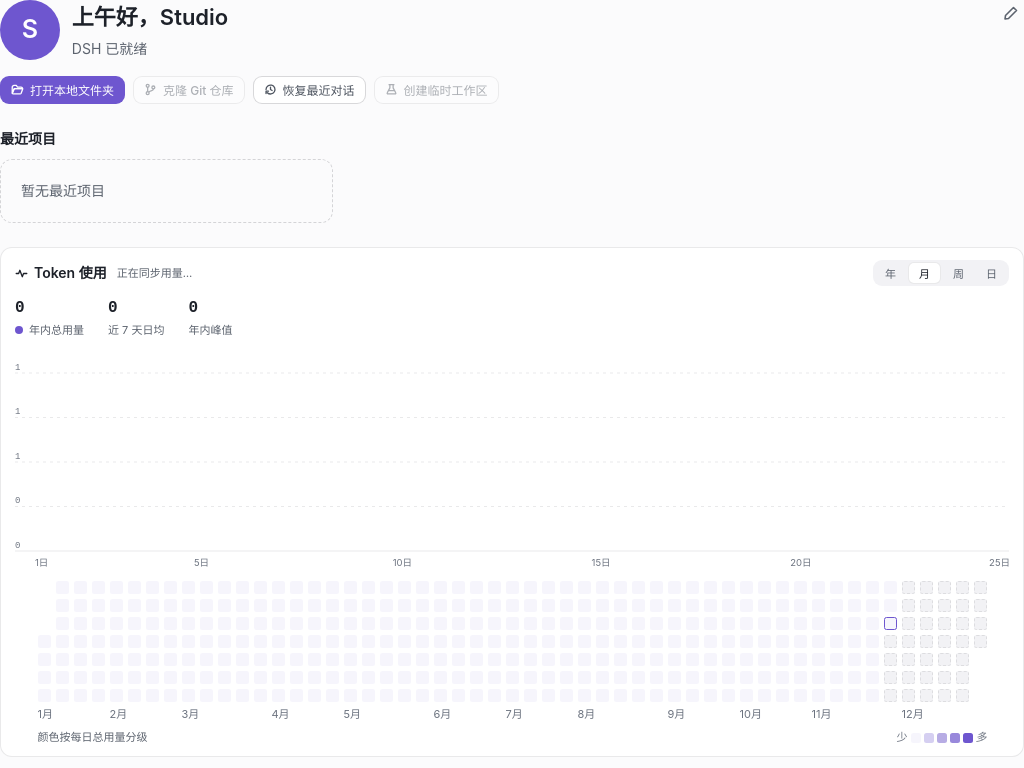
HomePage identity › saves a new display name from the edit dialog
Click the button named "编辑用户名和头像" at (1011, 13), box [998,0,1023,26]
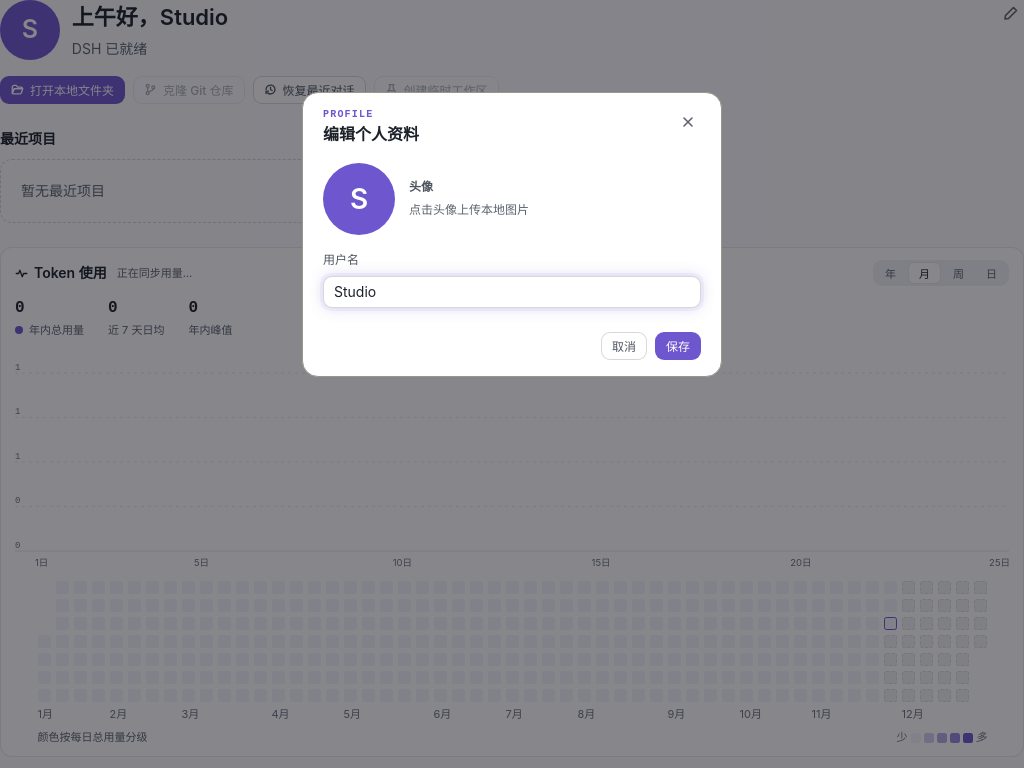
Check: the dialog "编辑个人资料" is shown, box [302,92,722,377]
Type "Ada" into the field labelled "用户名" at (512, 292), box [323,276,701,308]
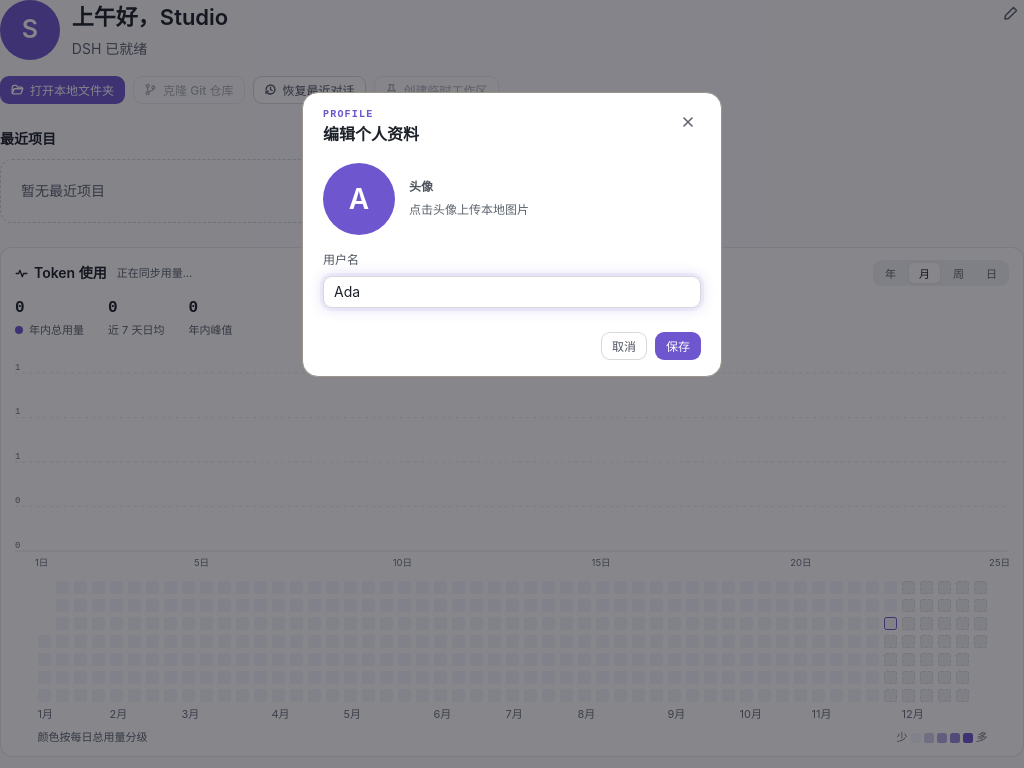
Click the button "保存" at (678, 346), box [655,332,701,360]
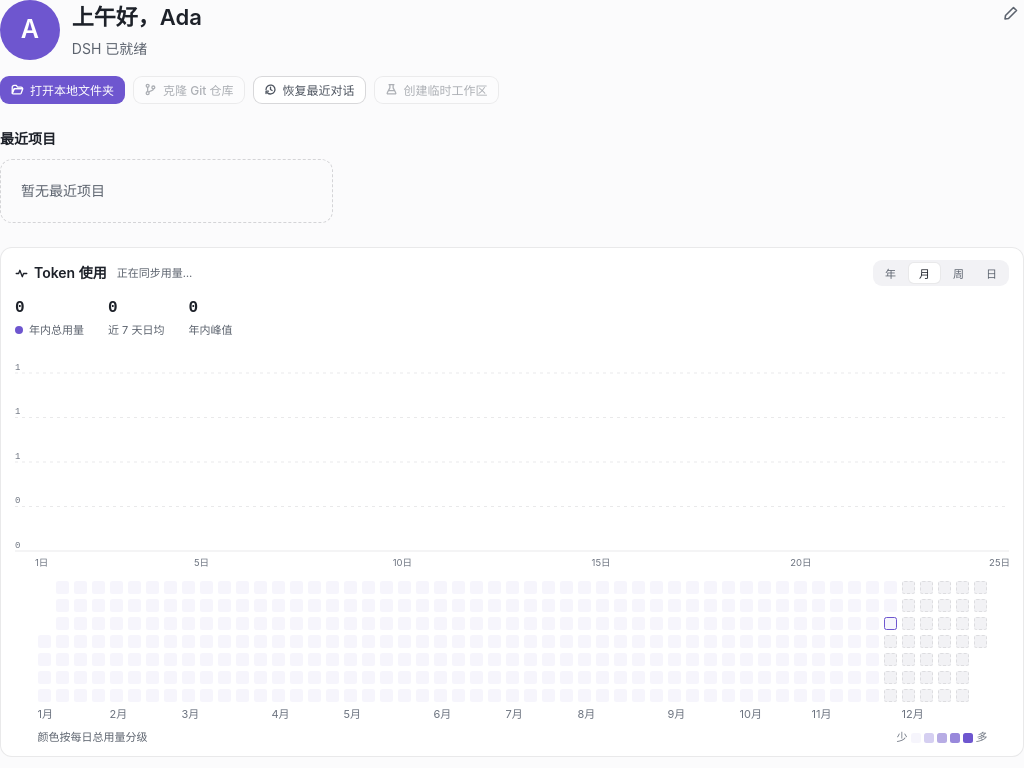
Check: the dialog is gone
Check: the heading "上午好，Ada" is shown, box [72,4,202,30]
